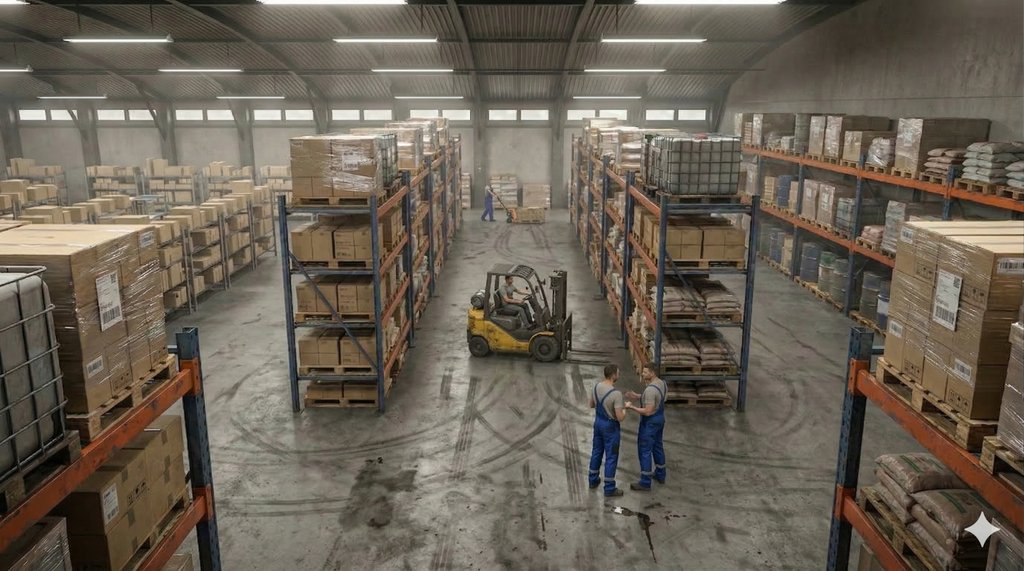forklift: (464, 256, 574, 364)
person: (571, 359, 627, 503), (628, 363, 670, 482), (497, 272, 540, 331), (475, 178, 509, 226)
